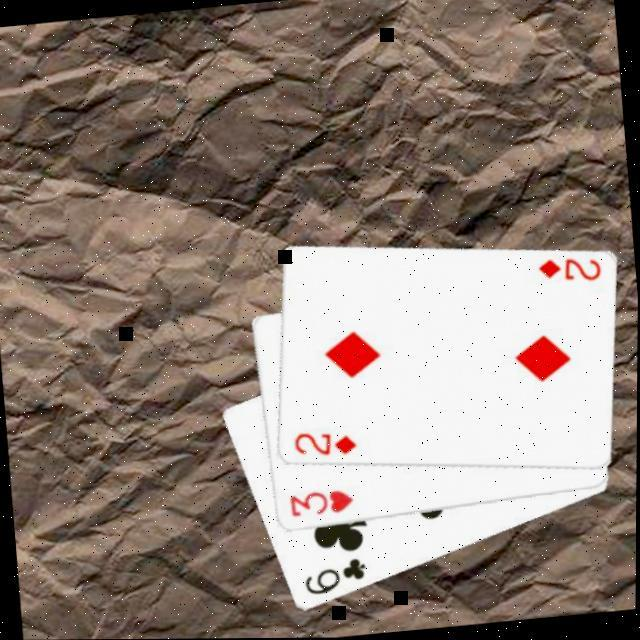2D: (533, 254, 603, 291), (288, 428, 358, 464)
3H: (284, 488, 354, 522)
6C: (298, 556, 369, 602)
